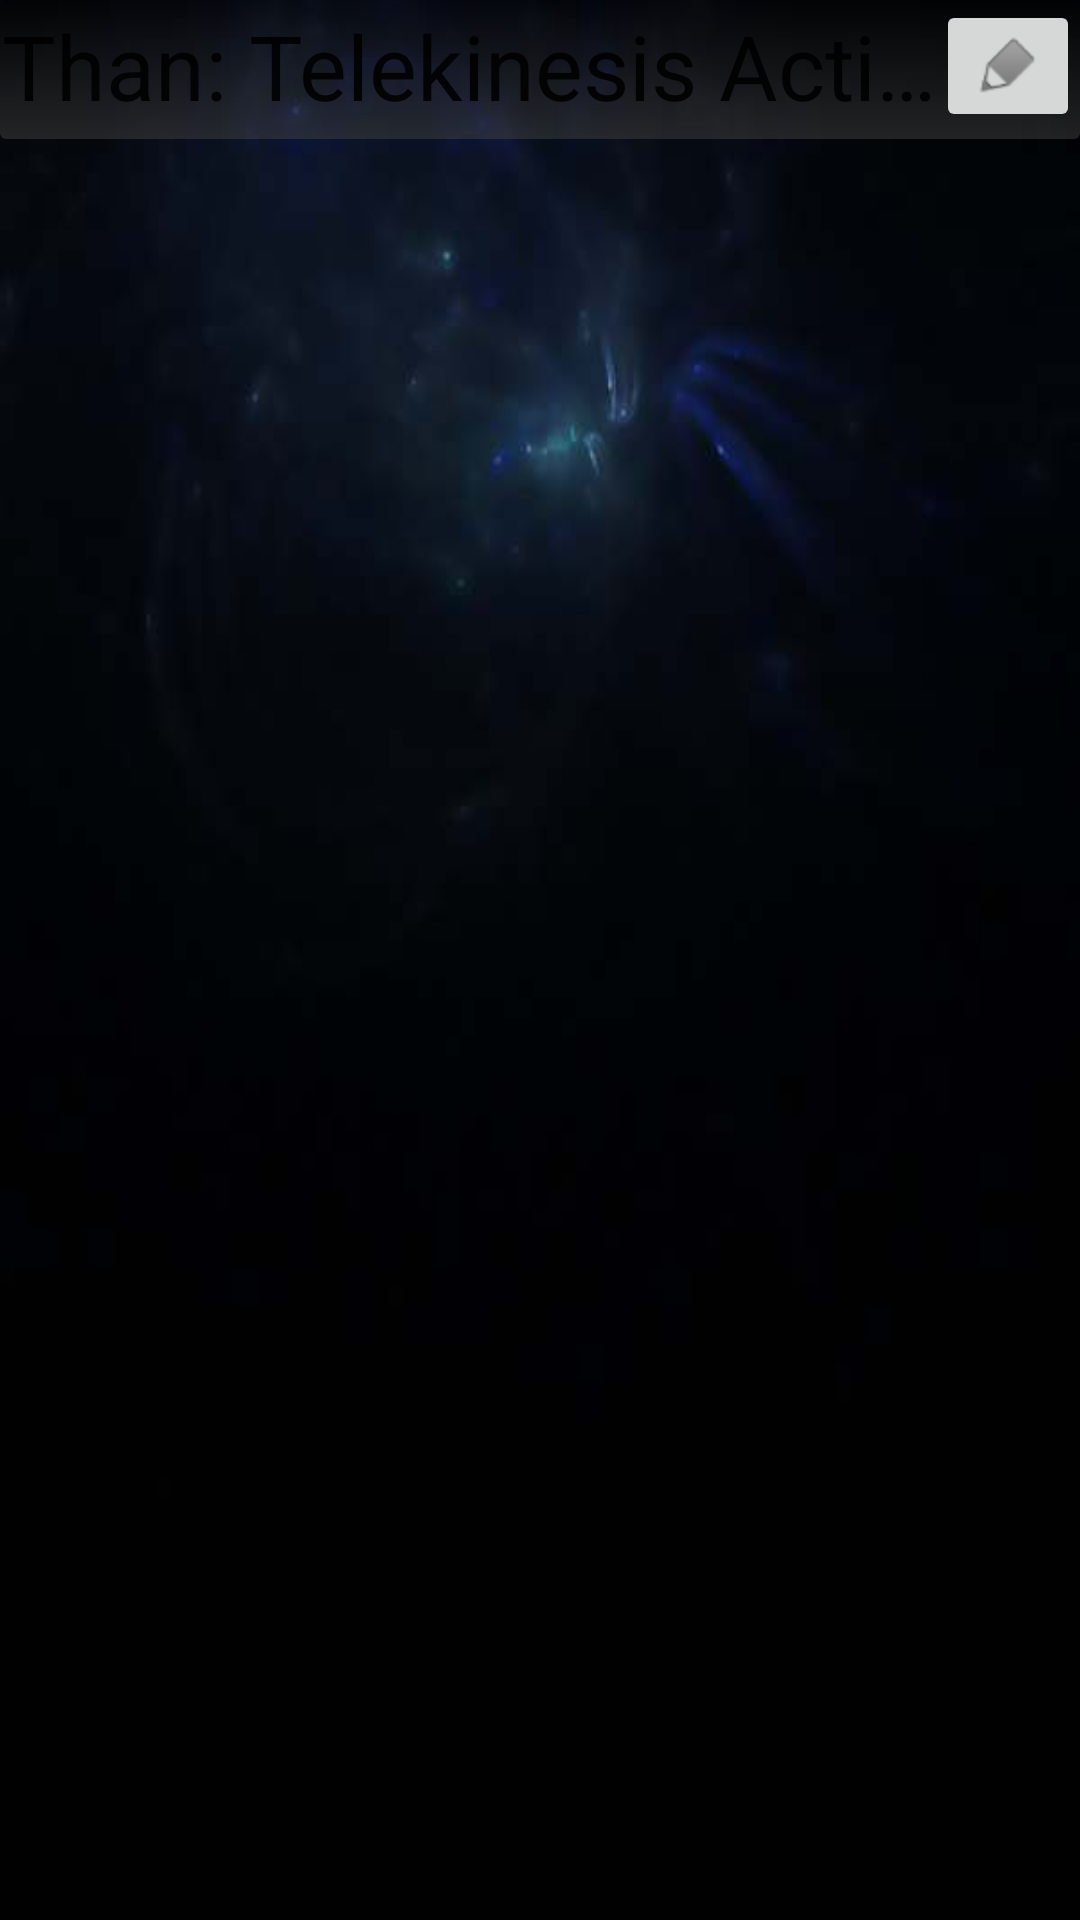

Locate icon controls on the screen. Image size 1080×1920, boxes as [x1,y1,x2,y2].
edit: [936,0,1080,114]
